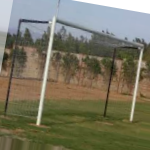goals: (5, 15, 146, 130)
